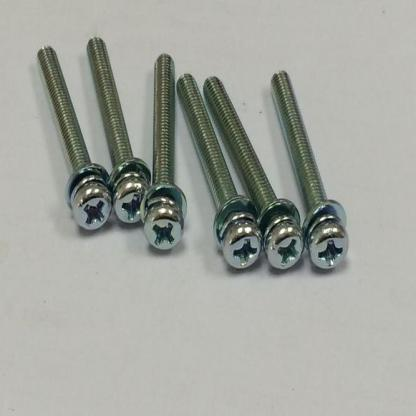FOD: (202, 74, 305, 272), (176, 70, 262, 270), (269, 67, 352, 273), (35, 42, 112, 233), (86, 34, 154, 228), (139, 54, 187, 254)
